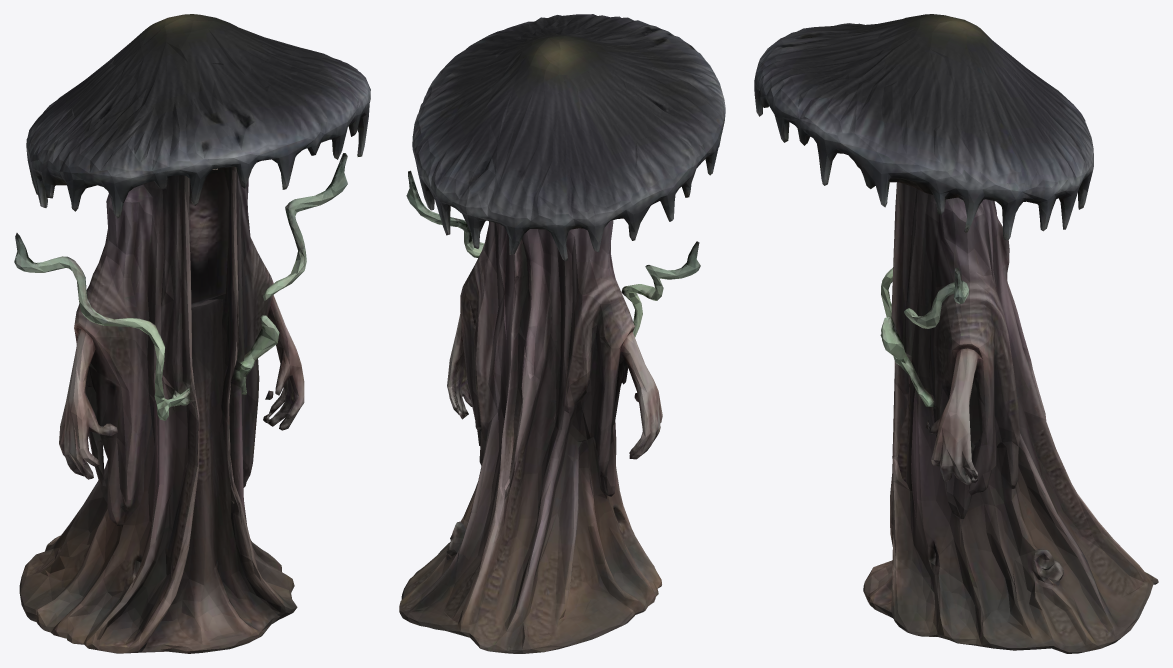
Rendered from gloomcapWalker.glb.
3 views of the same model, side by side, from view 1: azimuth 30°, elevation 25°; view 2: azimuth 150°, elevation 25°; view 3: azimuth 270°, elevation 25° (orthographic). The views are drawn at different scales.
Parts seen in each view (by area): view 1: world; view 2: world; view 3: world.
Part boxes in pixels (bbox=[...]): world: bbox=[14, 14, 370, 653]; world: bbox=[399, 14, 725, 653]; world: bbox=[754, 14, 1158, 653].
Bounding box in the file's own units: 0.5712 × 0.9995 × 0.6298.
1 material, 1 textured.
